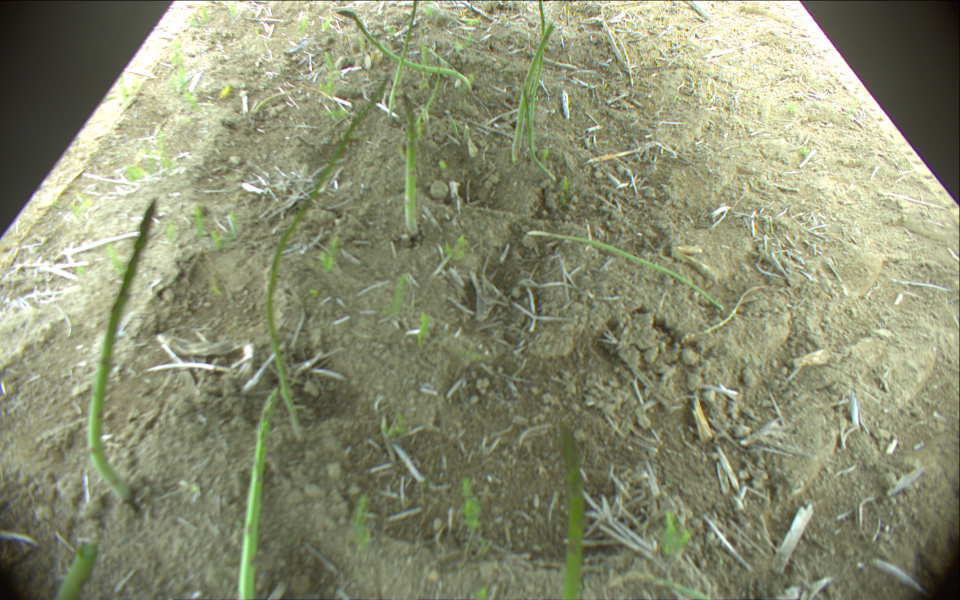aspa: (267, 72, 391, 437), (86, 200, 158, 511), (528, 230, 727, 311), (335, 8, 472, 89), (236, 388, 278, 600), (513, 24, 555, 150), (557, 420, 584, 600), (522, 84, 557, 182), (389, 1, 420, 110), (56, 541, 99, 600), (528, 1, 547, 134), (404, 95, 416, 239)
